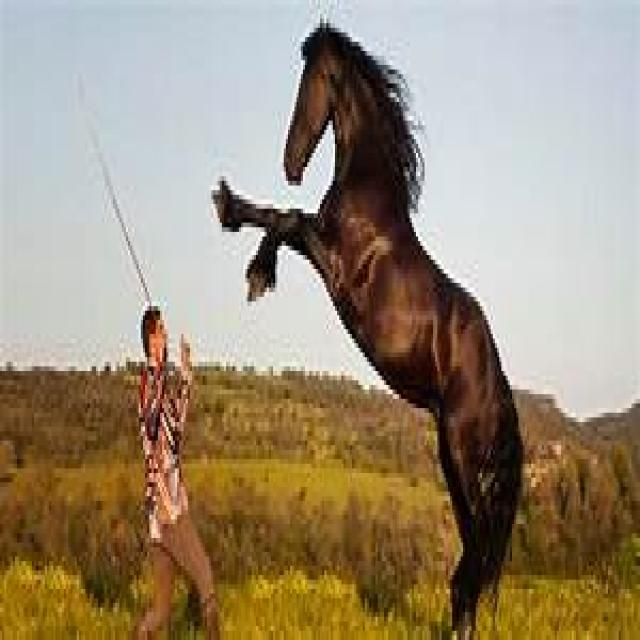animal: (176, 18, 607, 636)
